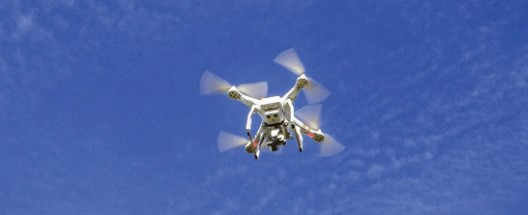drone: (204, 46, 340, 161)
